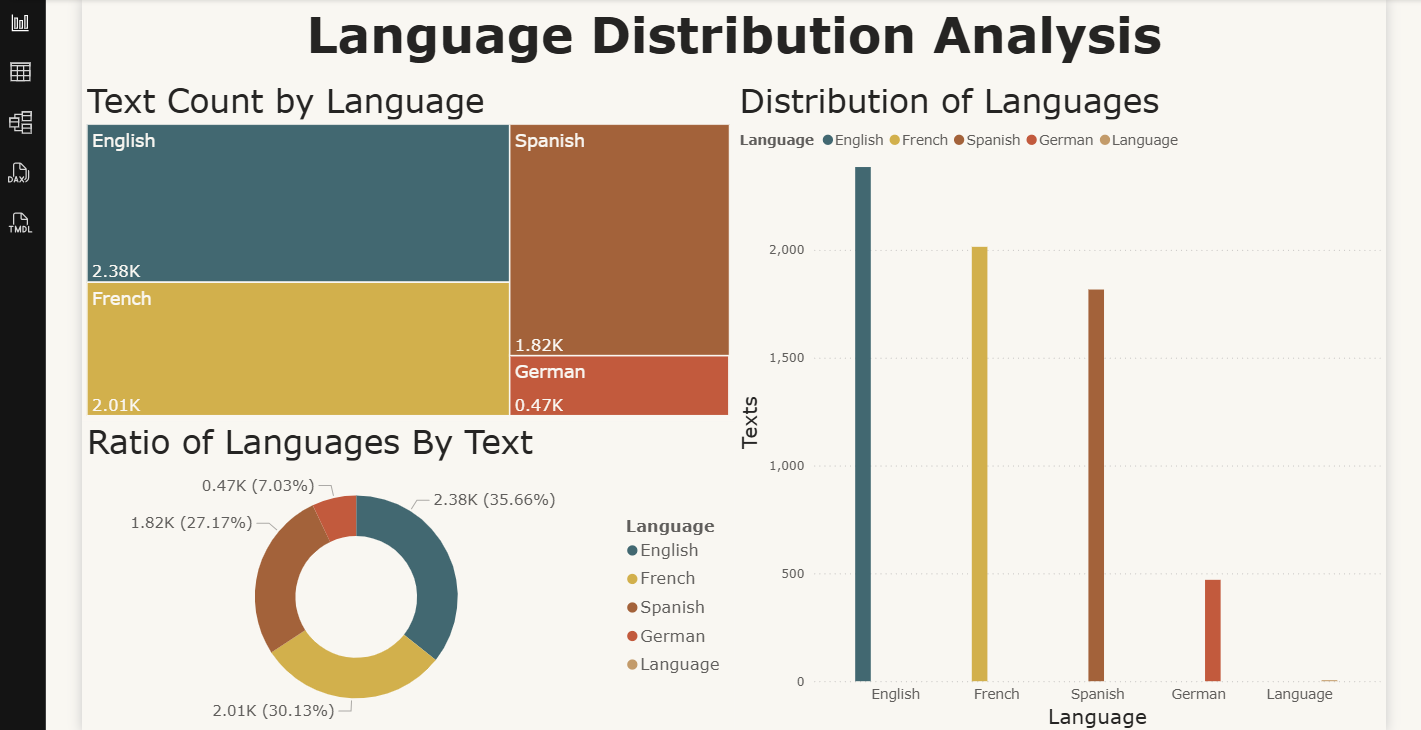

The dashboard page shown, as its layout file describes it:
{"tool":"powerbi","page":{"name":"Page 1","canvas":[1280,720],"ordinal":0},"visuals":[{"type":"clusteredColumnChart","title":"Distribution of Languages","fields":{"Category":["Cleaned_Data.Language"],"Y":["CountNonNull(Cleaned_Data.Text)"],"Series":["Cleaned_Data.Language"]},"box":[640.8,79.7,639.3,640.8],"z":0},{"type":"donutChart","title":"Ratio of Languages By Text","fields":{"Category":["Cleaned_Data.Language"],"Y":["CountNonNull(Cleaned_Data.Text)"]},"box":[0,414.2,640.8,306.3],"z":1000},{"type":"treemap","fields":{"Group":["Cleaned_Data.Language"],"Values":["CountNonNull(Cleaned_Data.Text)"]},"box":[0,79.7,640.8,334.5],"z":2000},{"type":"textbox","box":[0,0,1280.1,79.7],"z":2001}]}

Visuals, with their boxes on the page's 1280x720 design canvas (x1, y1, x2, y2). These are canvas units, not pixel positions in the 1421x730 screenshot, which may show the page scaled, cropped or inside an application window:
"Distribution of Languages" clusteredColumnChart: box(641, 80, 1280, 720)
"Ratio of Languages By Text" donutChart: box(0, 414, 641, 720)
treemap - Cleaned_Data.Language x CountNonNull(Cleaned_Data.Text): box(0, 80, 641, 414)
textbox: box(0, 0, 1280, 80)
